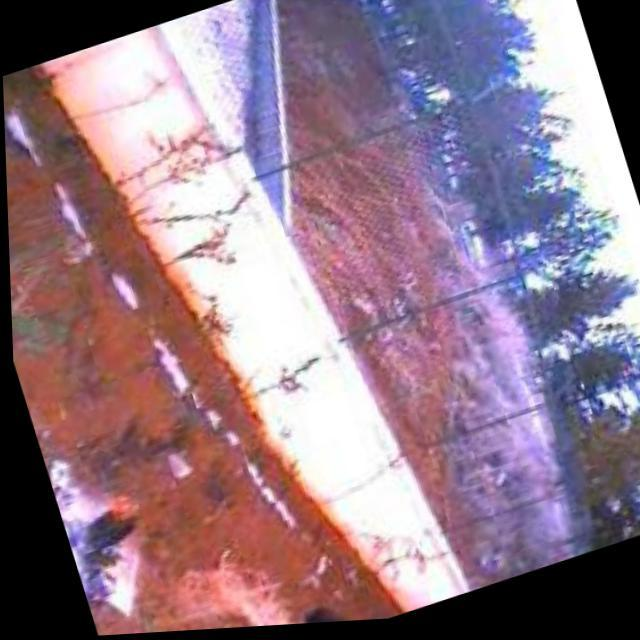fire: (76, 485, 148, 555)
